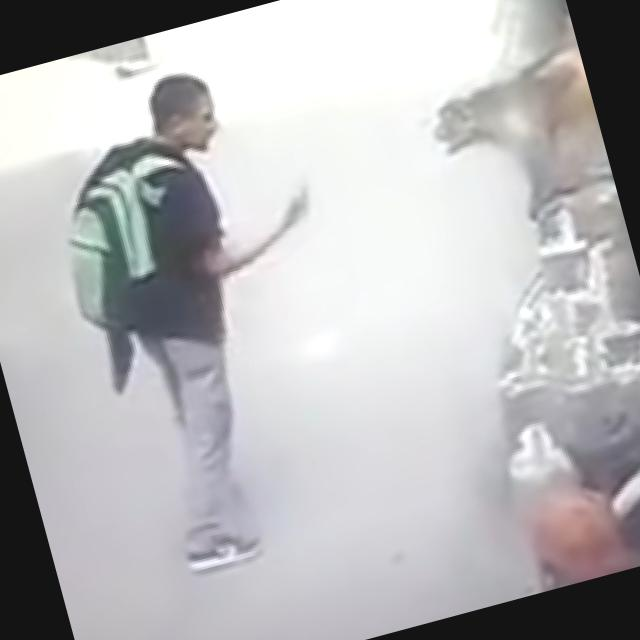person: (26, 50, 394, 582)
